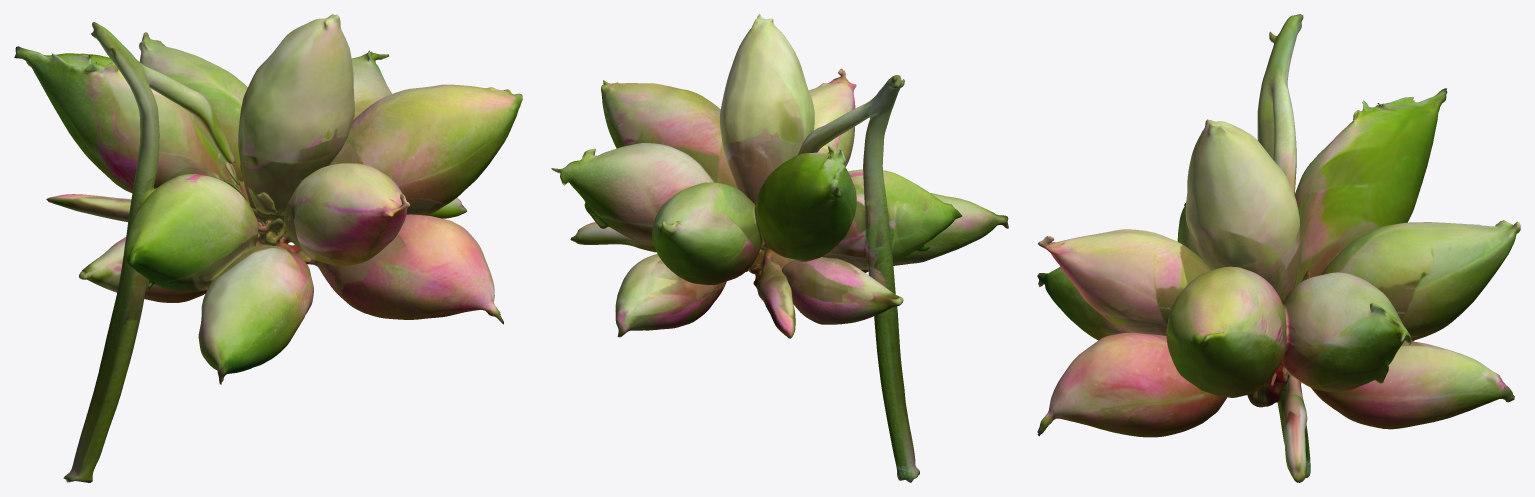
File: SHRUB0089.gltf
The picture shows the model from 3 angles, left to right: view 1: azimuth 30°, elevation 25°; view 2: azimuth 150°, elevation 25°; view 3: azimuth 270°, elevation 25°; orthographic projection. The views are drawn at different scales.
Visible parts, largest first — view 1: Mesh_0.047; view 2: Mesh_0.047; view 3: Mesh_0.047.
Boxes of the visible parts, left/top/right/bottom form: Mesh_0.047: left=14, top=14, right=522, bottom=482; Mesh_0.047: left=551, top=14, right=1008, bottom=482; Mesh_0.047: left=1037, top=14, right=1520, bottom=482.
Size of the model in its own units: 1.86 by 1.99 by 1.86.
1 material, 1 textured.
